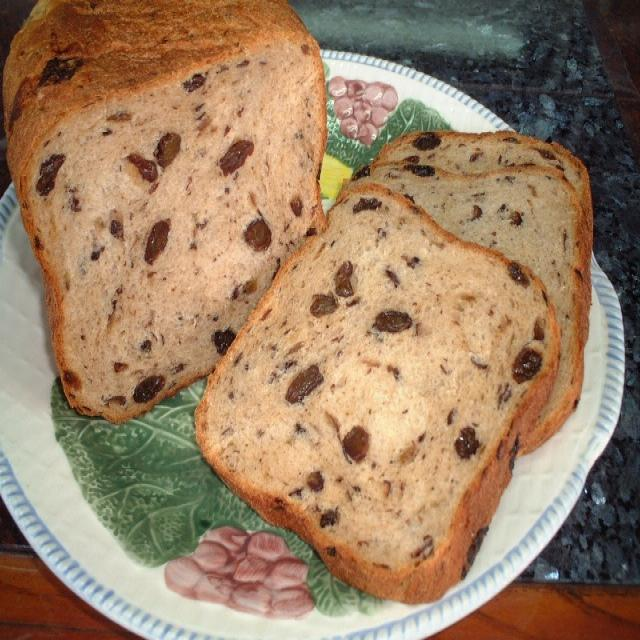面包点心: (0, 0, 632, 584)
